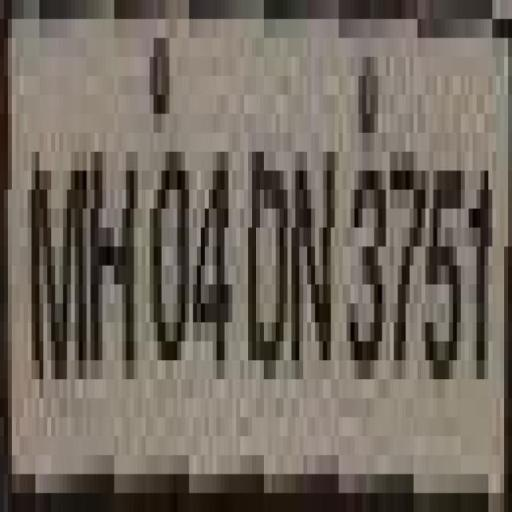number plate: (4, 0, 481, 512)
